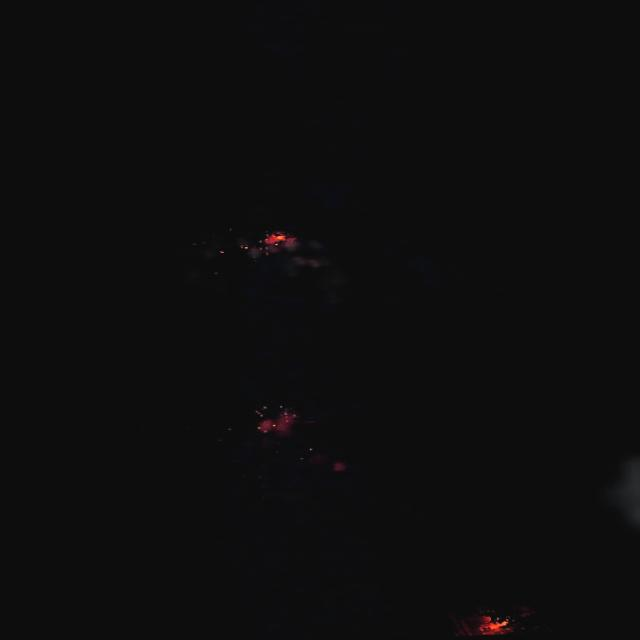fire: (256, 408, 299, 433), (477, 616, 512, 634), (262, 230, 295, 246)
smoke: (237, 238, 332, 280), (611, 450, 640, 551)
